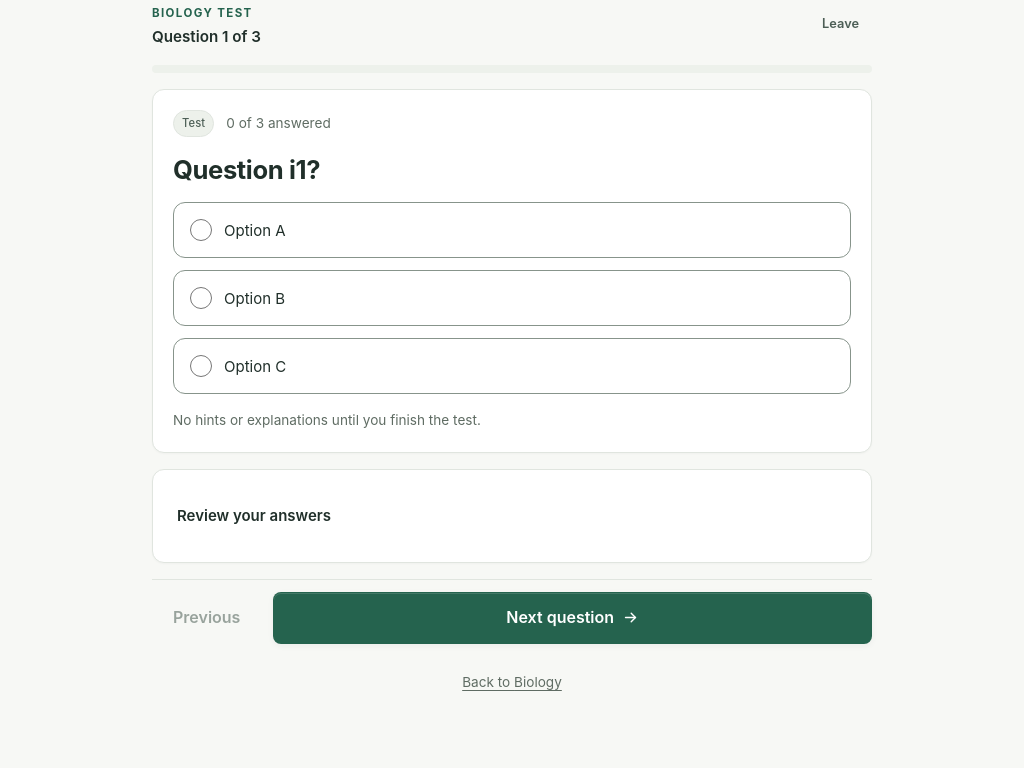
it: test session › offers "Save now" so the student can retry without moving
The image size is (1024, 768).
Click the radio button labelled "Option B": [201, 298] box [190,287,212,309]
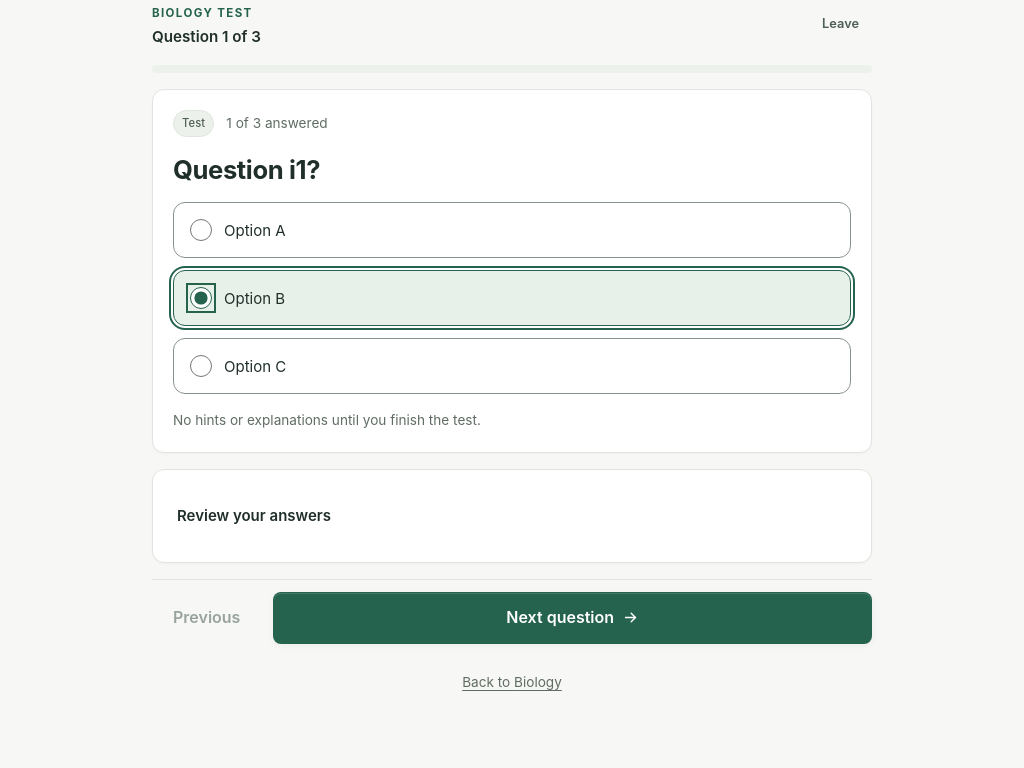
Click the button "Next question": [573, 618] box [273,592,872,644]
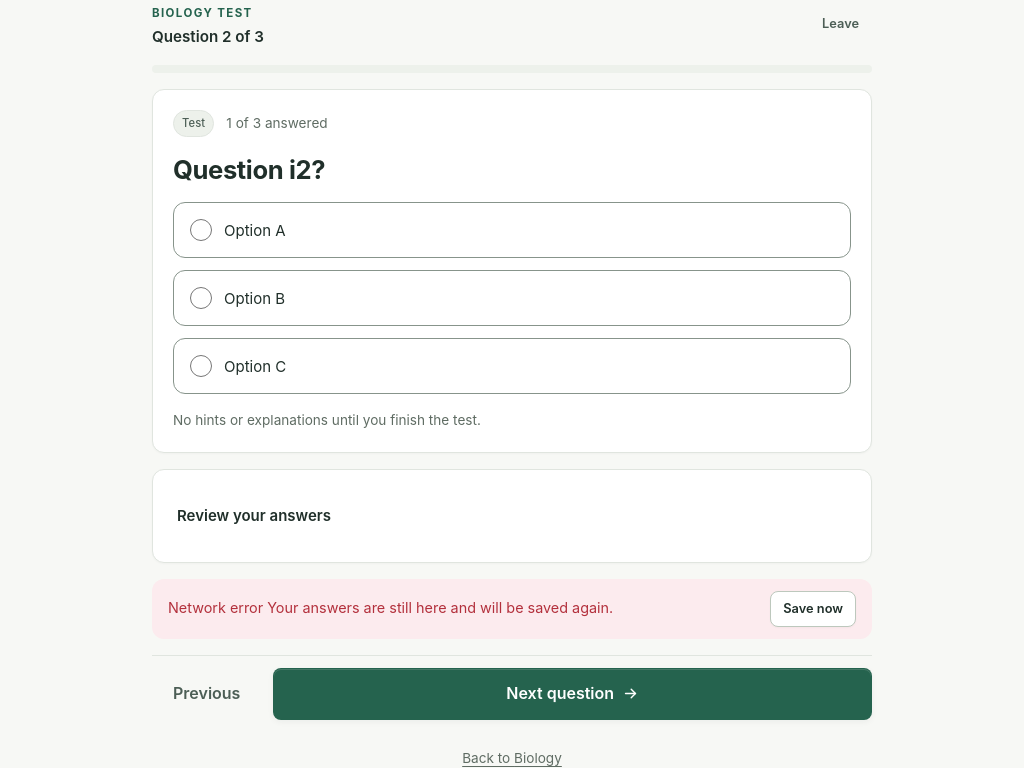
Click the button "Save now": [813, 608] box [770,590,856,626]
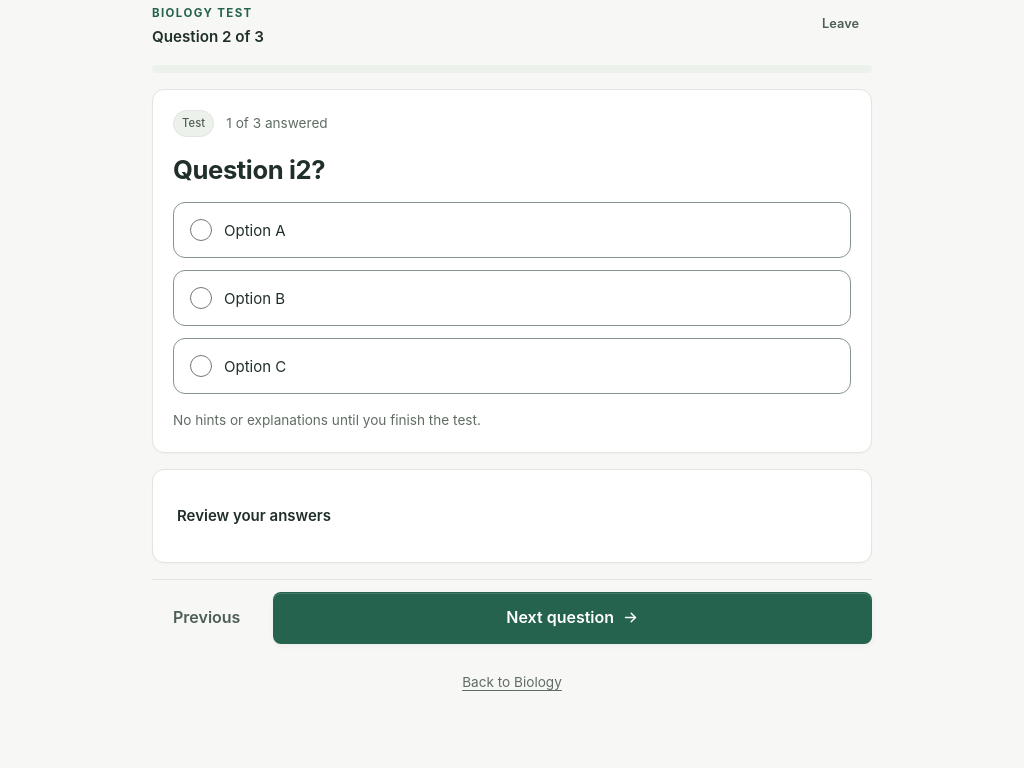
Result: the message "Network error Your answers are still here and will be saved again. Save now" is gone
